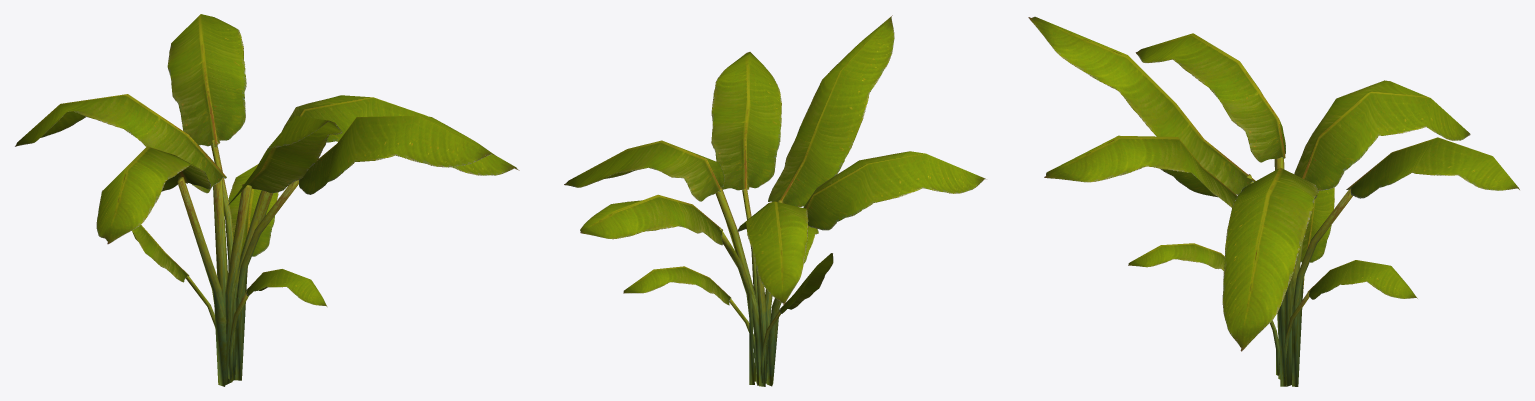
The model's file is plant h 3.dae.
The picture shows the model from 3 angles, left to right: view 1: azimuth 30°, elevation 25°; view 2: azimuth 150°, elevation 25°; view 3: azimuth 270°, elevation 25°; orthographic projection. The views are drawn at different scales.
Parts seen in each view (by area): view 1: plant_h3_Form3, plant_h3_trunk; view 2: plant_h3_Form3, plant_h3_trunk; view 3: plant_h3_Form3, plant_h3_trunk.
Part boxes in pixels (x1,y1,x2,y2): plant_h3_Form3: (15,14,519,307); plant_h3_trunk: (177,140,298,386); plant_h3_Form3: (564,15,986,313); plant_h3_trunk: (715,188,808,386); plant_h3_Form3: (1028,16,1519,351); plant_h3_trunk: (1247,157,1352,386).
Size of the model in its own units: 117 by 84.75 by 109.
1 material, 1 textured.
